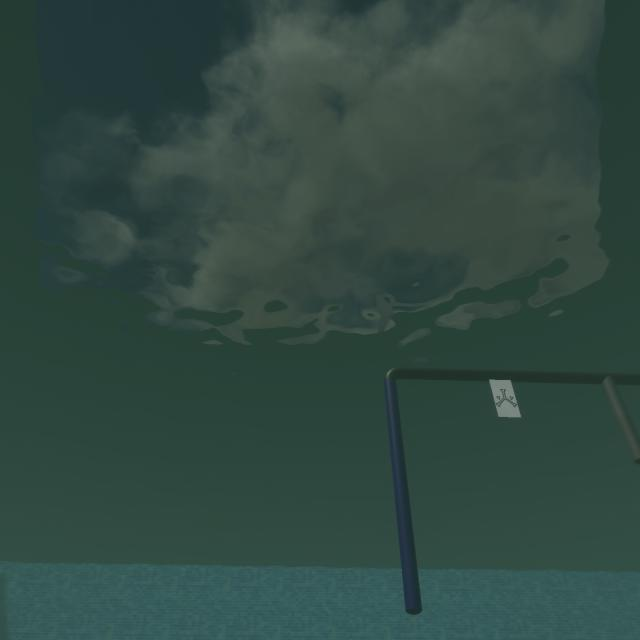abydos: (493, 387, 518, 409)
gate: (380, 363, 640, 617)
